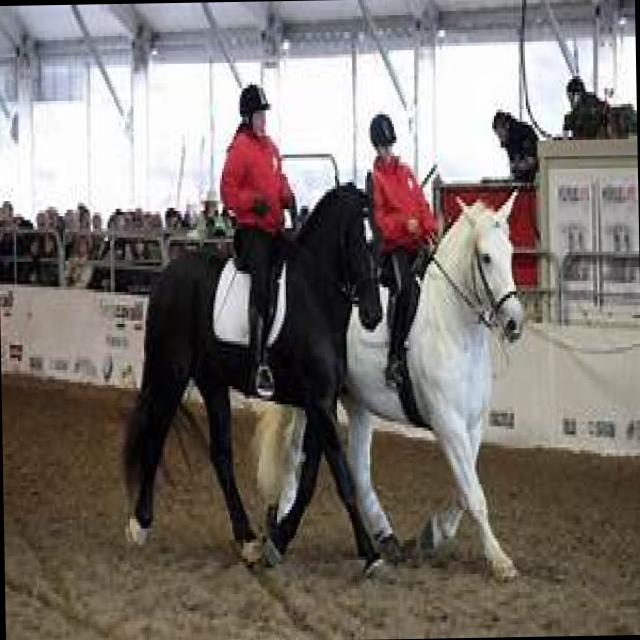animal: (118, 183, 388, 552), (264, 189, 528, 560)
